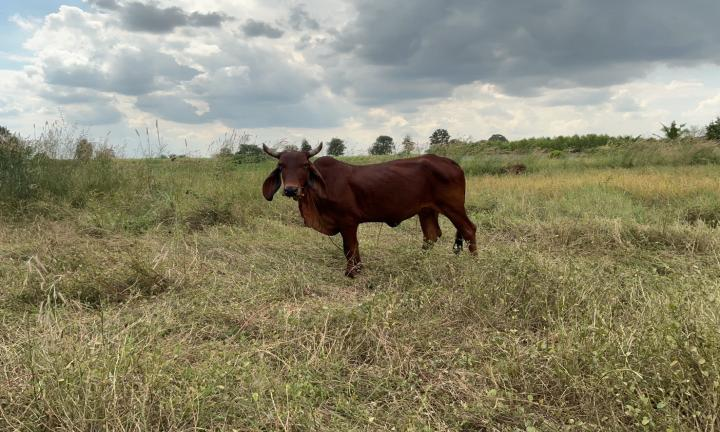Brahman: (262, 145, 476, 275)
